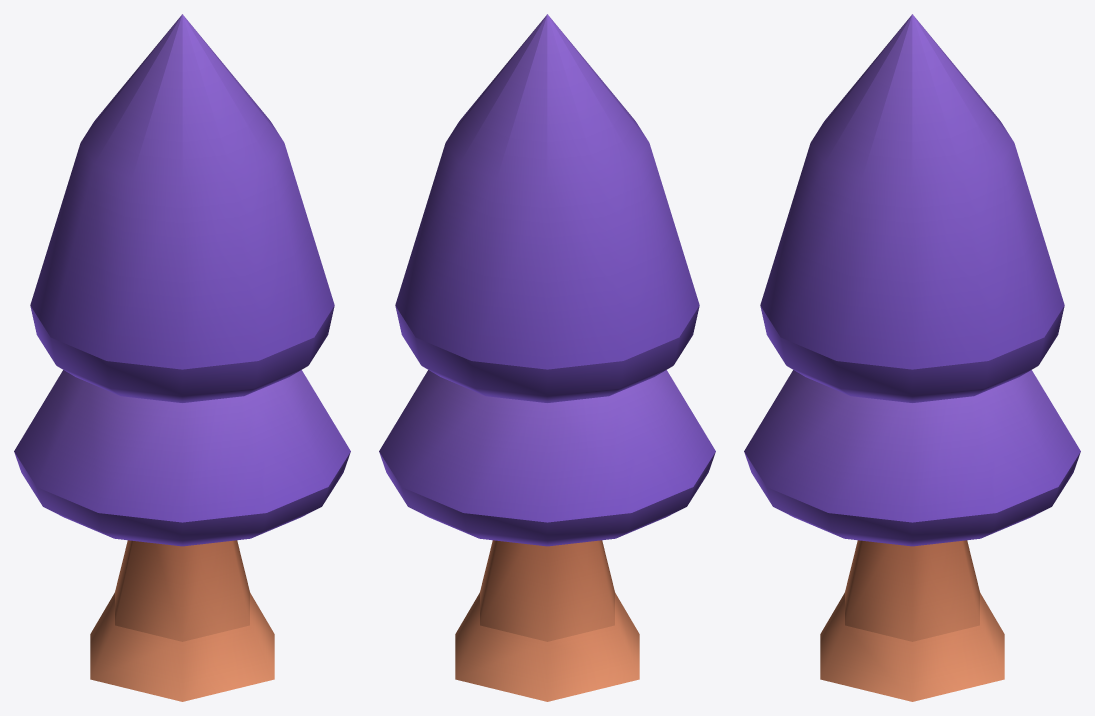
Rendered from pfa_tree-pine.glb.
3 renders of one model, left to right at view 1: azimuth 30°, elevation 25°; view 2: azimuth 150°, elevation 25°; view 3: azimuth 270°, elevation 25°, orthographic.
Visible parts, largest first — view 1: tree-pine; view 2: tree-pine; view 3: tree-pine.
Part boxes in pixels (left/top/right/bottom): tree-pine: left=14, top=14, right=350, bottom=701; tree-pine: left=379, top=14, right=715, bottom=701; tree-pine: left=744, top=14, right=1080, bottom=701.
Bounding box in the file's own units: 0.9485 × 2 × 0.9485.
Materials: 1 (1 with a texture image).
